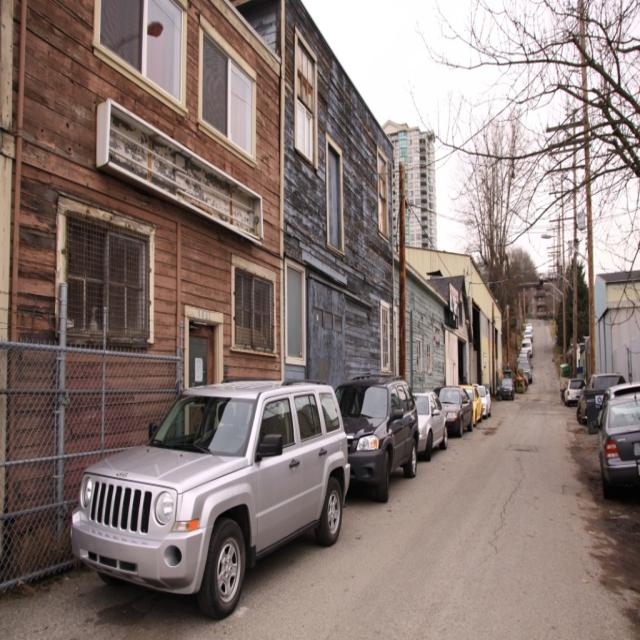car: (496, 375, 514, 399)
